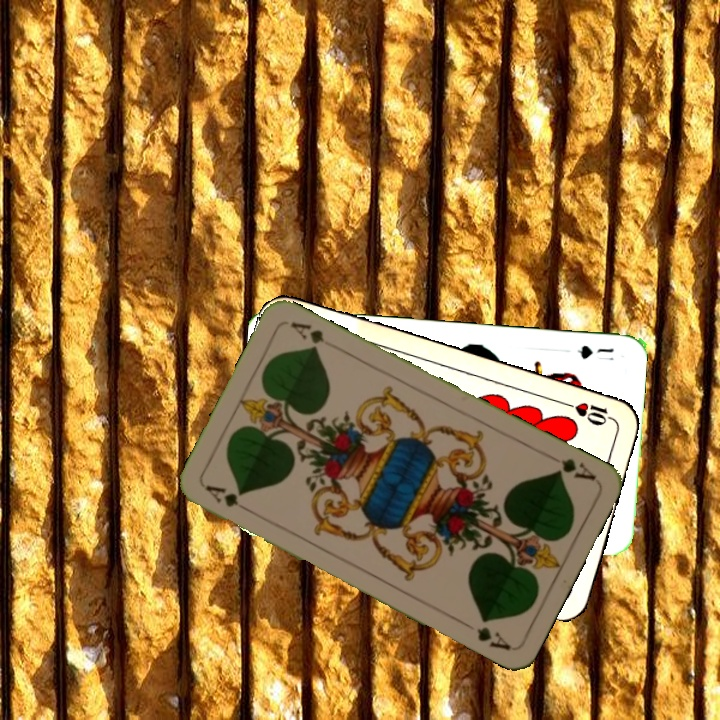GA: (544, 449, 599, 484), (201, 481, 255, 516)
GU: (573, 341, 617, 363)
H10: (560, 398, 618, 429)
